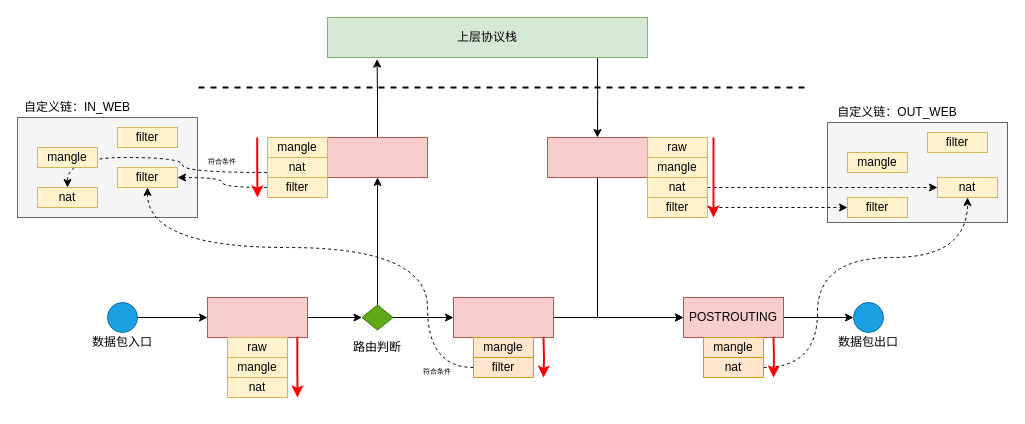
The diagram is 1025 pixels wide and 424 high, and some of its shapes have lost their labels. The shapes that lost their labels are listed below. From the top down, each one's centre as x and y in pixels, then its label:
At point 377,157: "INPUT".
At point 597,157: "OUTPUT".
At point 257,317: "PREROUTING".
At point 503,317: "FORWARD".
